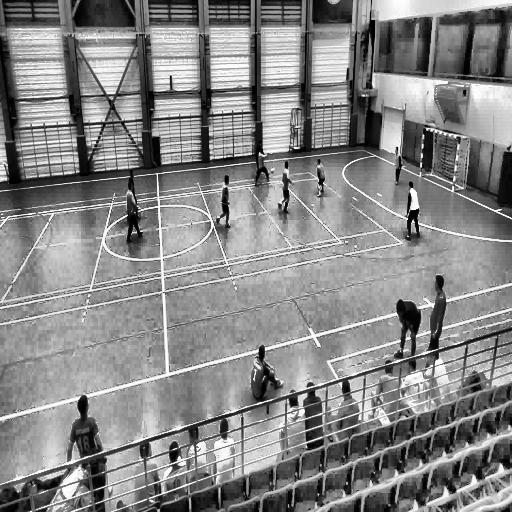ball: (271, 166, 275, 176)
player: (396, 299, 421, 360), (427, 276, 446, 352), (125, 178, 144, 244), (405, 179, 420, 240), (216, 173, 231, 229), (280, 160, 292, 216), (255, 147, 270, 186), (393, 145, 402, 186), (316, 158, 325, 198), (254, 138, 264, 172)
